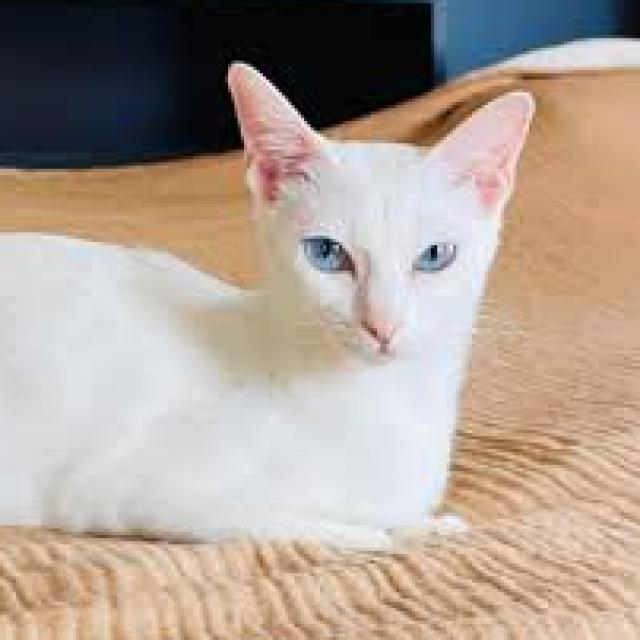Khao Manee: (0, 54, 539, 551)
